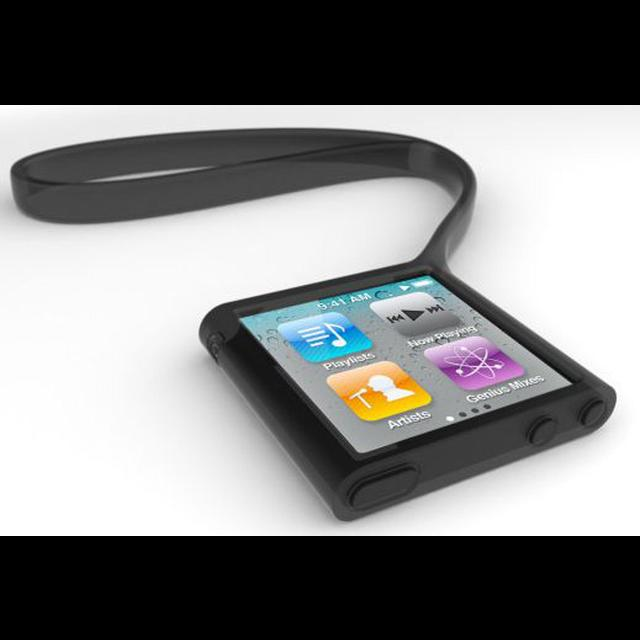Music-Player: (197, 254, 621, 526)
